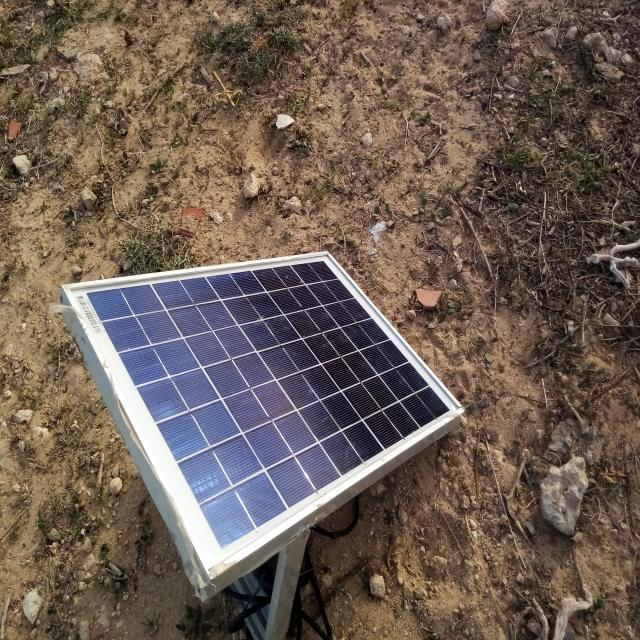no faulty: (68, 250, 460, 574)
